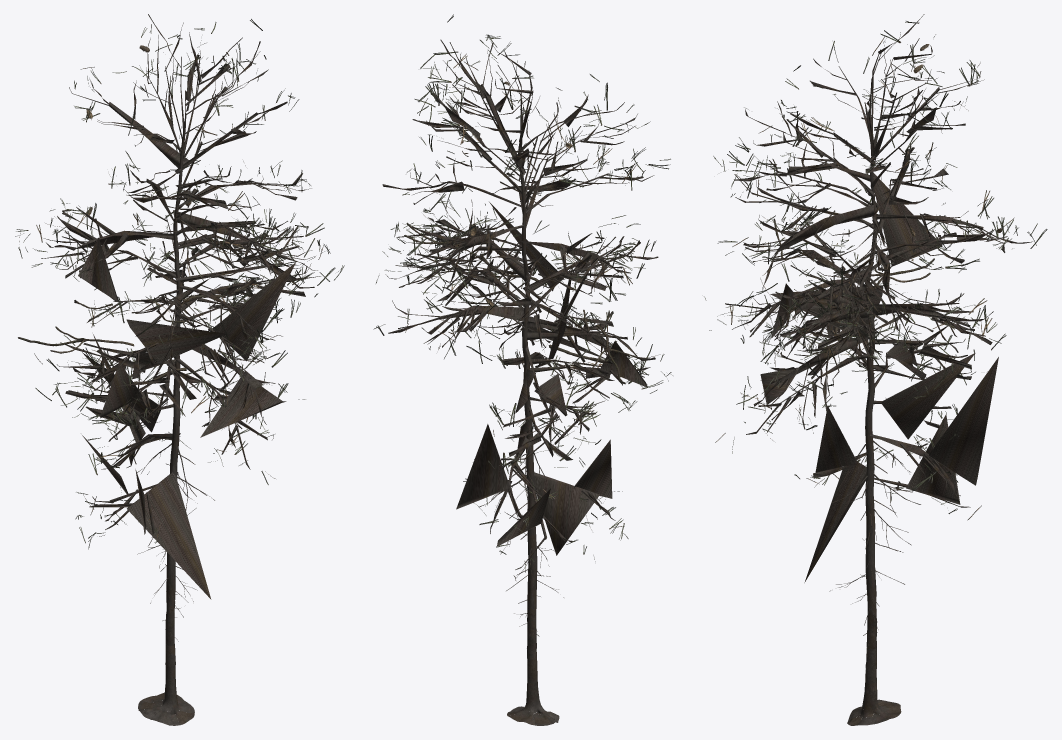
File: pine_tree_01_c.glb
3 views of the same model, side by side, from view 1: azimuth 30°, elevation 25°; view 2: azimuth 150°, elevation 25°; view 3: azimuth 270°, elevation 25° (orthographic). The views are drawn at different scales.
Visible parts, largest first — view 1: pine_tree_01_c_LOD0.001, pine_tree_01_c_LOD0.003, pine_tree_01_c_LOD0.002, pine_tree_01_c_LOD0; view 2: pine_tree_01_c_LOD0.001, pine_tree_01_c_LOD0.003, pine_tree_01_c_LOD0.002, pine_tree_01_c_LOD0; view 3: pine_tree_01_c_LOD0.001, pine_tree_01_c_LOD0.003, pine_tree_01_c_LOD0.002, pine_tree_01_c_LOD0.
Part boxes in pixels (left/top/right/bottom): pine_tree_01_c_LOD0.001: left=41, top=14, right=320, bottom=599; pine_tree_01_c_LOD0.003: left=15, top=19, right=344, bottom=549; pine_tree_01_c_LOD0.002: left=138, top=113, right=194, bottom=725; pine_tree_01_c_LOD0: left=137, top=443, right=214, bottom=641; pine_tree_01_c_LOD0.001: left=382, top=39, right=658, bottom=569; pine_tree_01_c_LOD0.003: left=373, top=14, right=672, bottom=580; pine_tree_01_c_LOD0.002: left=507, top=107, right=559, bottom=725; pine_tree_01_c_LOD0: left=479, top=447, right=564, bottom=636; pine_tree_01_c_LOD0.001: left=725, top=14, right=1032, bottom=582; pine_tree_01_c_LOD0.003: left=704, top=21, right=1047, bottom=520; pine_tree_01_c_LOD0.002: left=847, top=102, right=901, bottom=725; pine_tree_01_c_LOD0: left=829, top=440, right=920, bottom=647.
Bounding box in the file's own units: 7.29 × 17.21 × 7.59.
4 materials, 4 textured.
